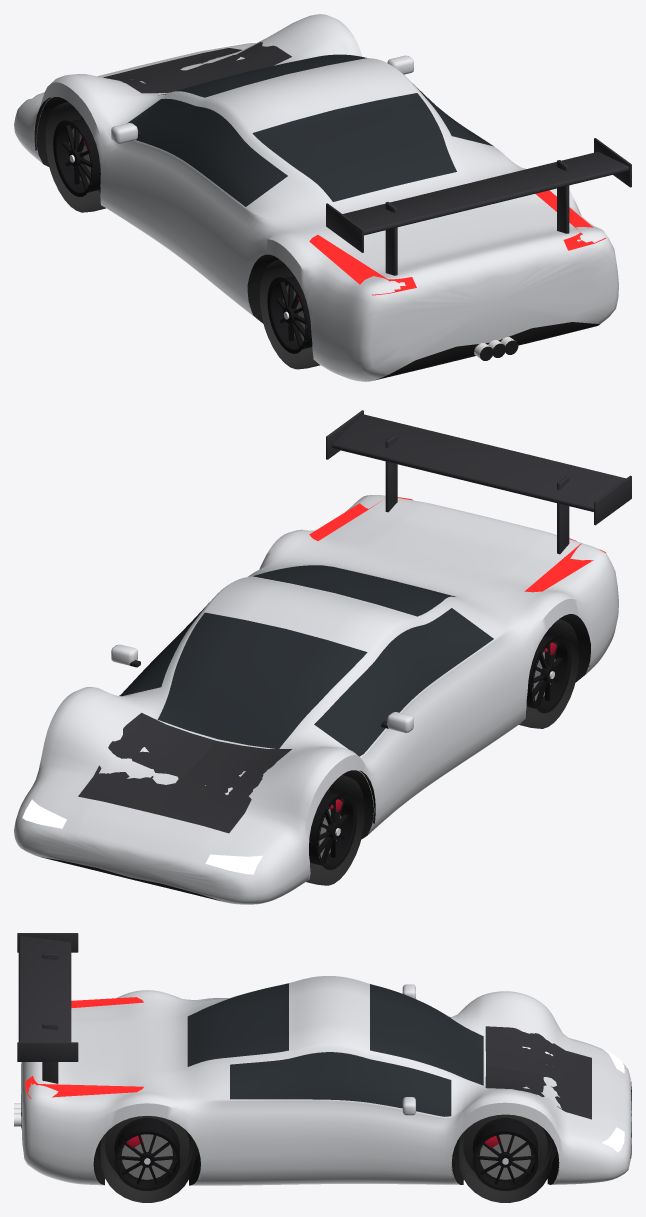
File: jesko.glb
3 renders of one model, top to bottom at view 1: azimuth 30°, elevation 25°; view 2: azimuth 150°, elevation 25°; view 3: azimuth 270°, elevation 25°, orthographic. The views are drawn at different scales.
Visible parts, largest first — view 1: Body, Wheel_FL, Wheel_RL; view 2: Body, Wheel_FL, Wheel_RL; view 3: Body, Wheel_FR, Wheel_RR.
Boxes of the visible parts, x1,y1,x2,y2 form: Body: (14,14,631,381); Wheel_FL: (45,102,105,212); Wheel_RL: (259,259,320,369); Body: (14,410,631,904); Wheel_FL: (306,775,364,885); Wheel_RL: (519,619,578,728); Body: (14,933,631,1185); Wheel_FR: (458,1114,552,1202); Wheel_RR: (100,1115,194,1202).
Size of the model in its own units: 2.17 by 1.35 by 4.66.
